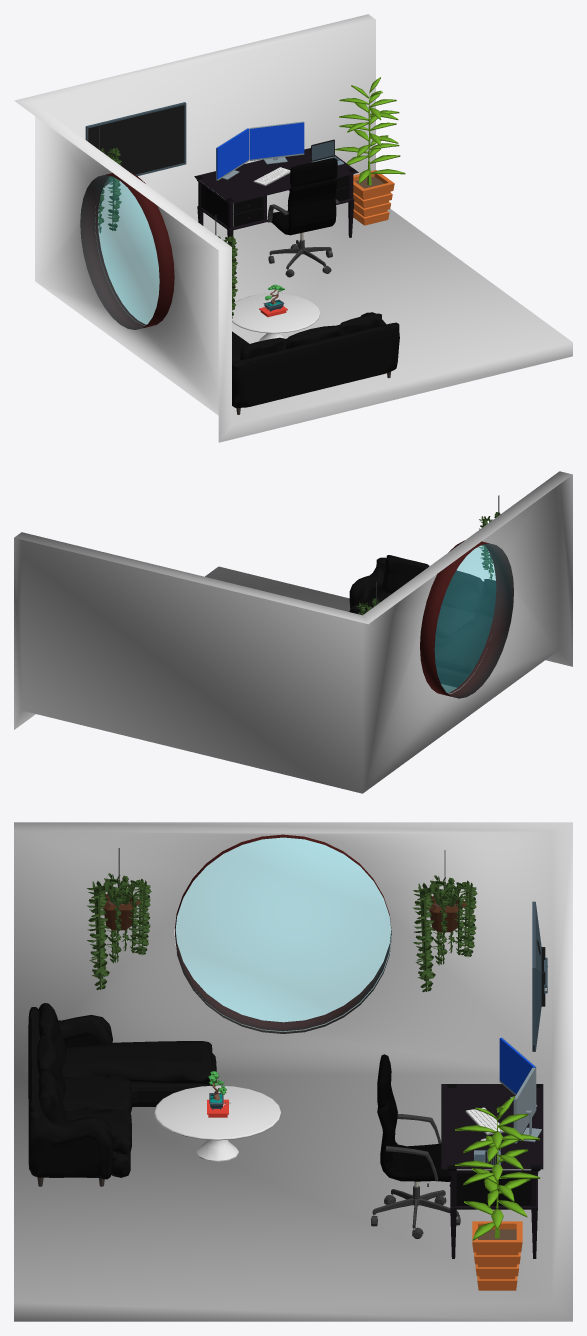
Rendered from room.glb.
The picture shows the model from 3 angles, top to bottom: view 1: azimuth 30°, elevation 25°; view 2: azimuth 150°, elevation 25°; view 3: azimuth 270°, elevation 25°; orthographic projection. The views are drawn at different scales.
Parts seen in each view (by area): view 1: Plane, Sofa, Table, FlatTv, Chair, Plant, Table_large_circular, Monitor2, Monitor1, FlowerPot1; view 2: Plane, Sofa; view 3: Plane, Sofa, Table, Plant, Table_large_circular, Chair, FlowerPot1, FlowerPot2, FlatTv, Monitor1, Monitor2, Bonsai.
Boxes of the visible parts, x1,y1,x2,y2 form: Plane: (14, 14, 572, 442); Sofa: (232, 312, 399, 414); Table: (194, 148, 358, 245); FlatTv: (85, 102, 186, 182); Chair: (267, 158, 339, 277); Plant: (335, 77, 405, 225); Table_large_circular: (232, 293, 320, 341); Monitor2: (249, 121, 304, 164); Monitor1: (216, 128, 249, 180); FlowerPot1: (94, 127, 121, 232); Plane: (14, 471, 572, 793); Sofa: (349, 555, 496, 687); Plane: (14, 822, 572, 1321); Sofa: (28, 1003, 216, 1186); Table: (441, 1084, 543, 1258); Plant: (455, 1096, 540, 1290); Table_large_circular: (154, 1085, 280, 1161); Chair: (371, 1054, 460, 1238); FlowerPot1: (412, 850, 477, 992); FlowerPot2: (87, 848, 151, 989); FlatTv: (532, 901, 547, 1051); Monitor1: (499, 1037, 537, 1110); Monitor2: (513, 1067, 541, 1143); Bonsai: (207, 1071, 230, 1117).
Size of the model in its own units: 8.42 by 4.31 by 8.31.
